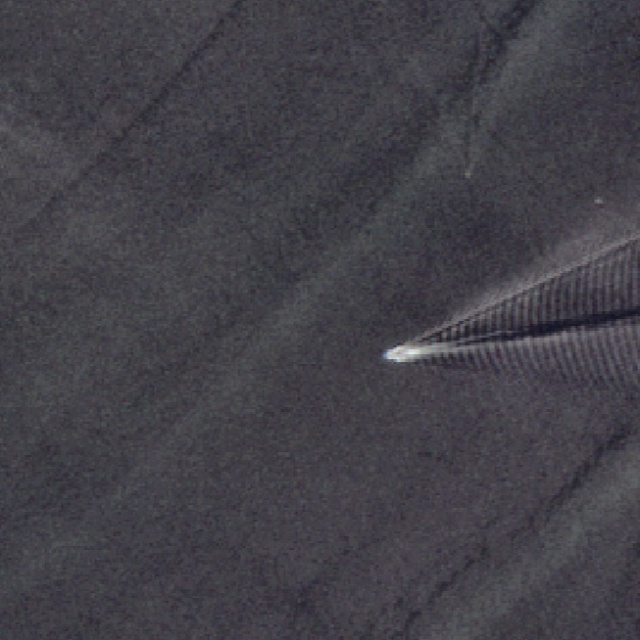wake: (376, 295, 555, 396)
